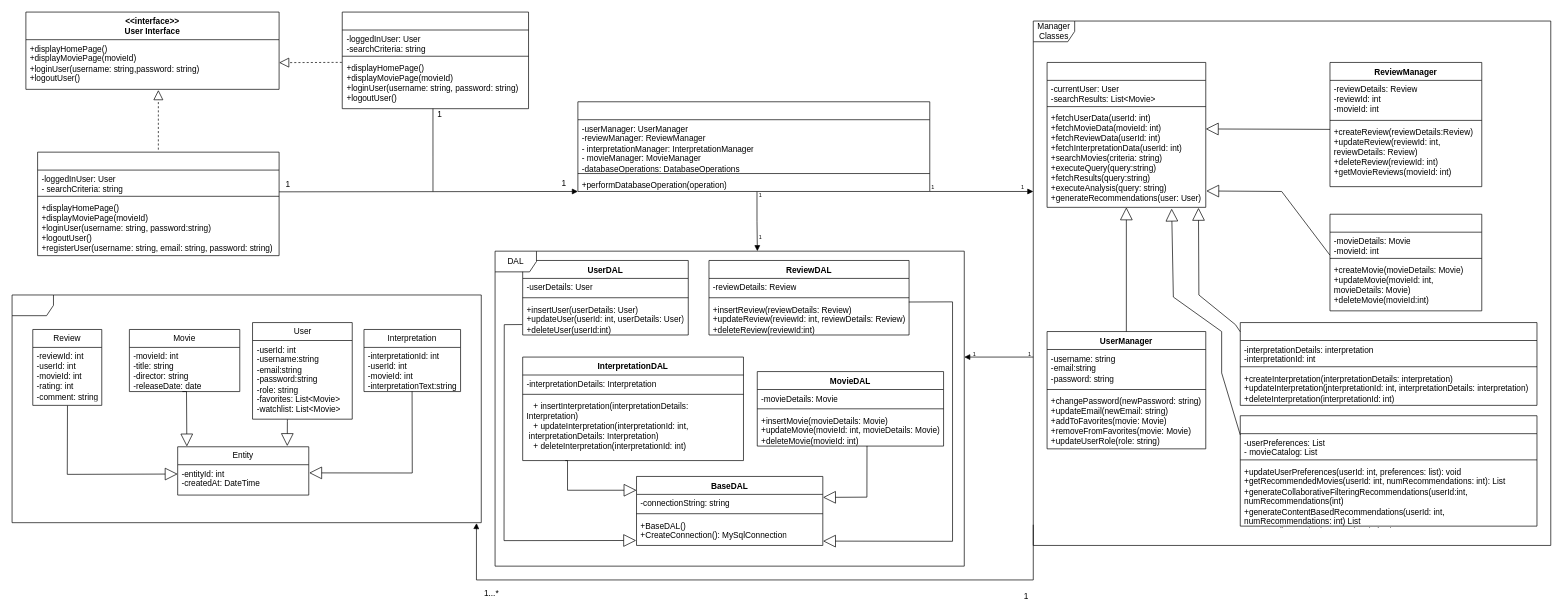
The diagram is 1563 pixels wide and 613 high, and some of its shapes have lost their labels. The box of each missing label's shape, as (x1, y1, x2, y2) in pixels:
BackendService: (577, 101, 930, 191)
DesktopController: (342, 11, 529, 109)
Entities: (11, 294, 481, 523)
GeneralManager: (1046, 62, 1206, 207)
InterpretationManager: (1240, 322, 1537, 405)
MovieManager: (1329, 214, 1482, 311)
RecommendationManager: (1240, 415, 1537, 526)
WebController: (37, 151, 279, 256)
